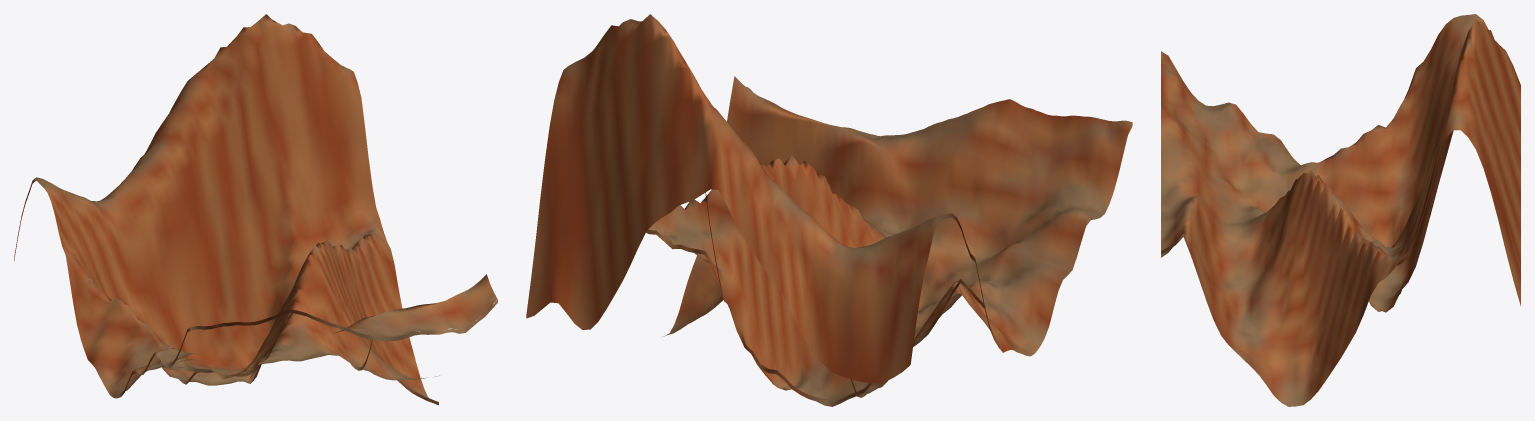
Rendered from terrain-043.glb.
The picture shows the model from 3 angles, left to right: view 1: azimuth 30°, elevation 25°; view 2: azimuth 150°, elevation 25°; view 3: azimuth 270°, elevation 25°; orthographic projection. The views are drawn at different scales.
Parts seen in each view (by area): view 1: terrain-043; view 2: terrain-043; view 3: terrain-043.
Boxes of the visible parts, x1,y1,x2,y2 form: terrain-043: (14,14,497,405); terrain-043: (526,14,1132,406); terrain-043: (1161,14,1520,406).
Size of the model in its own units: 384 by 412 by 384.
